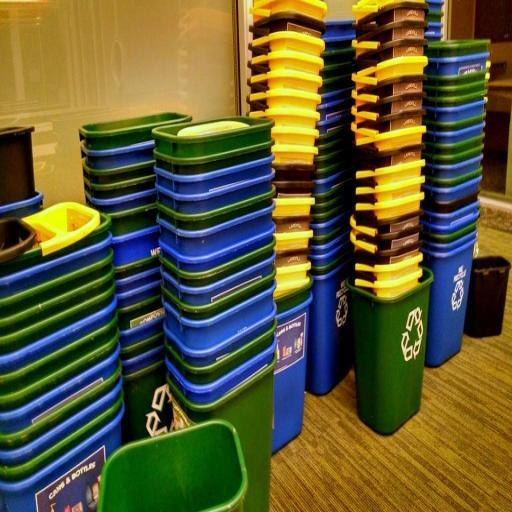trash-can: (350, 257, 432, 440)
